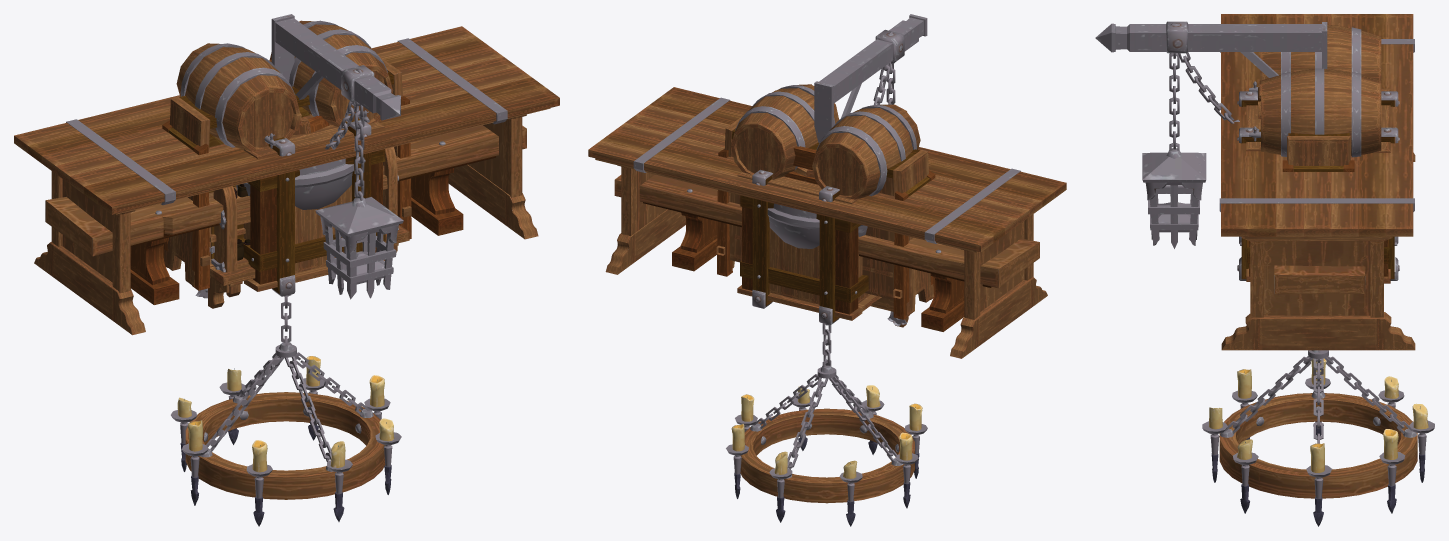
File: props.glb
3 views of the same model, side by side, from view 1: azimuth 30°, elevation 25°; view 2: azimuth 150°, elevation 25°; view 3: azimuth 270°, elevation 25° (orthographic). The views are drawn at different scales.
Parts seen in each view (by area): view 1: Table_Large, Chandelier, Barrel_Holder, Bench, Lantern_Wall, Crate_Wooden, Cabinet, Shelf_Small_Bottles, Cauldron, Shelf_Simple; view 2: Table_Large, Barrel_Holder, Chandelier, Crate_Wooden, Bench, Lantern_Wall, Cabinet, Cauldron, Chair_1; view 3: Table_Large, Chandelier, Barrel_Holder, Lantern_Wall, Crate_Wooden, Bench, Cabinet.
Boxes of the visible parts, x1,y1,x2,y2 form: Table_Large: [14, 26, 559, 335]; Chandelier: [171, 294, 401, 526]; Barrel_Holder: [162, 20, 411, 290]; Bench: [45, 125, 526, 304]; Lantern_Wall: [271, 14, 403, 299]; Crate_Wooden: [237, 119, 385, 296]; Cabinet: [164, 55, 402, 286]; Shelf_Small_Bottles: [210, 147, 398, 292]; Cauldron: [236, 158, 353, 209]; Shelf_Simple: [208, 225, 409, 308]; Table_Large: [588, 87, 1066, 358]; Barrel_Holder: [716, 84, 935, 319]; Chandelier: [726, 323, 927, 526]; Crate_Wooden: [737, 169, 881, 324]; Bench: [614, 174, 1039, 331]; Lantern_Wall: [814, 14, 927, 142]; Cabinet: [724, 115, 933, 316]; Cauldron: [767, 203, 867, 248]; Chair_1: [784, 146, 817, 184]; Table_Large: [1219, 14, 1415, 350]; Chandelier: [1202, 350, 1434, 526]; Barrel_Holder: [1249, 24, 1381, 171]; Lantern_Wall: [1095, 21, 1327, 248]; Crate_Wooden: [1237, 88, 1399, 283]; Bench: [1274, 265, 1365, 293]; Cabinet: [1287, 133, 1350, 169].
Size of the model in its own units: 2.85 by 2.84 by 1.9.
Materials: 3 (3 with a texture image).
